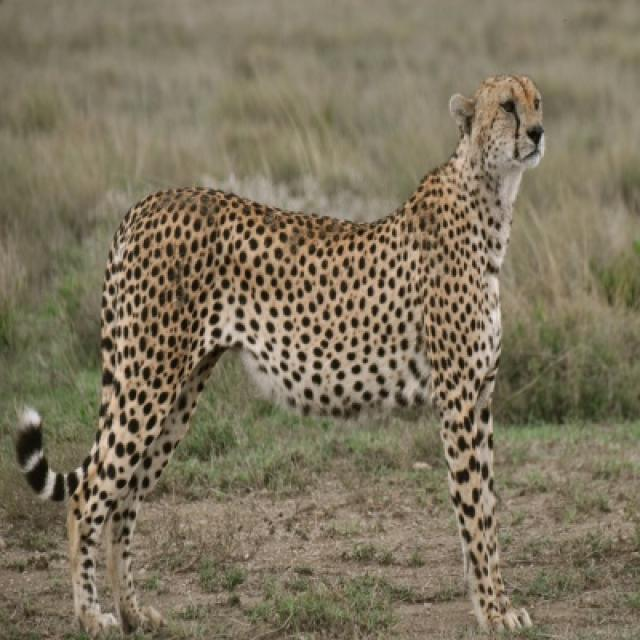Cheetah: (16, 78, 546, 638)
